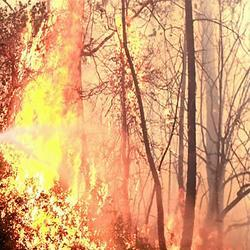fire: (9, 137, 57, 189), (19, 82, 61, 122), (31, 212, 56, 238)
